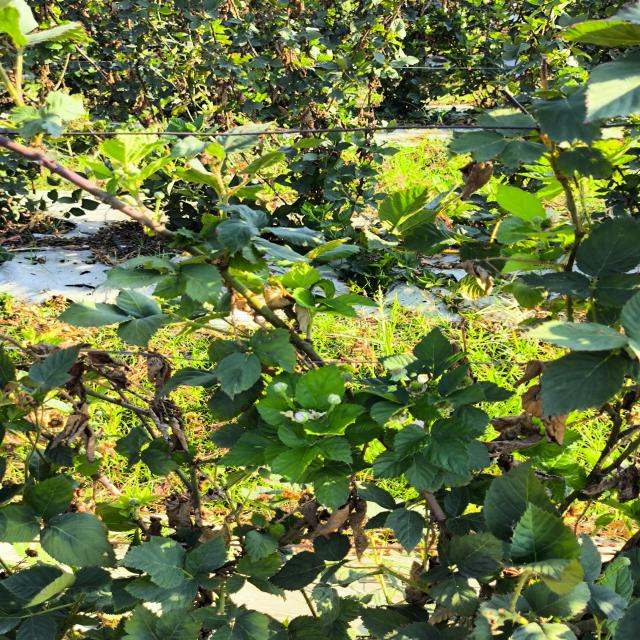boton: (293, 411, 309, 423), (273, 382, 288, 393), (328, 394, 341, 405)
